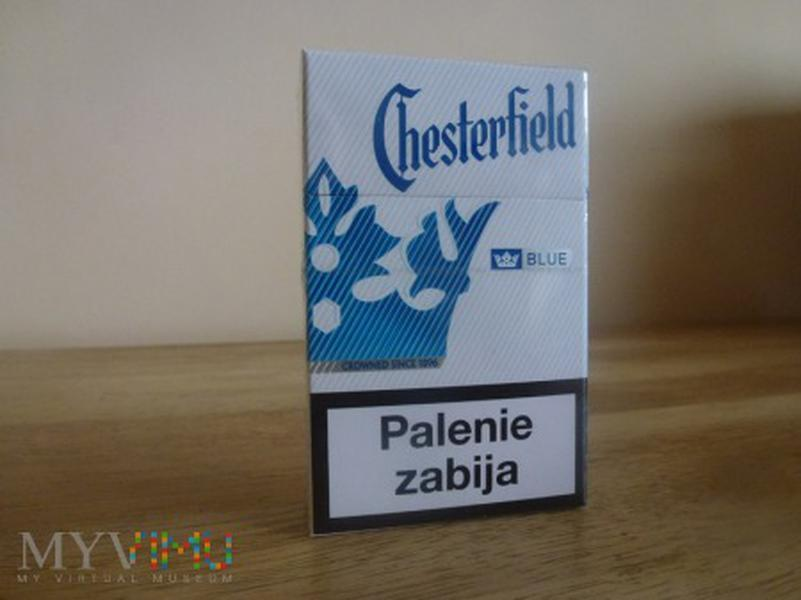chesterfield_blue: (306, 54, 584, 508)
